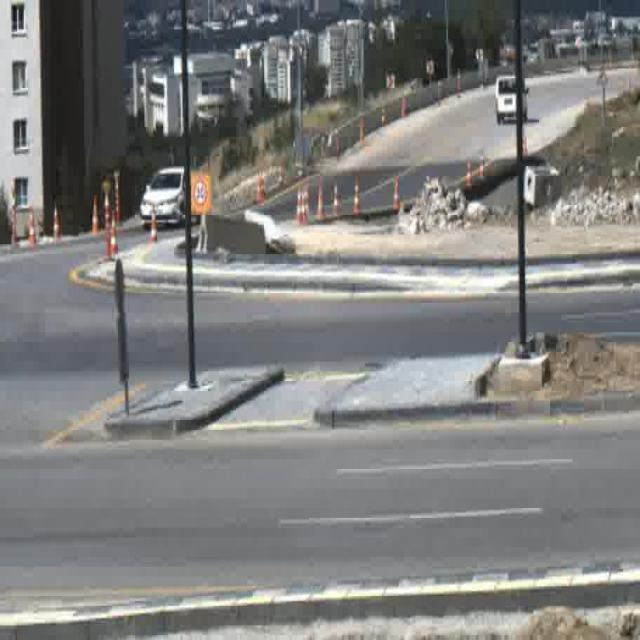Car: (139, 166, 185, 230), (497, 73, 527, 125)
